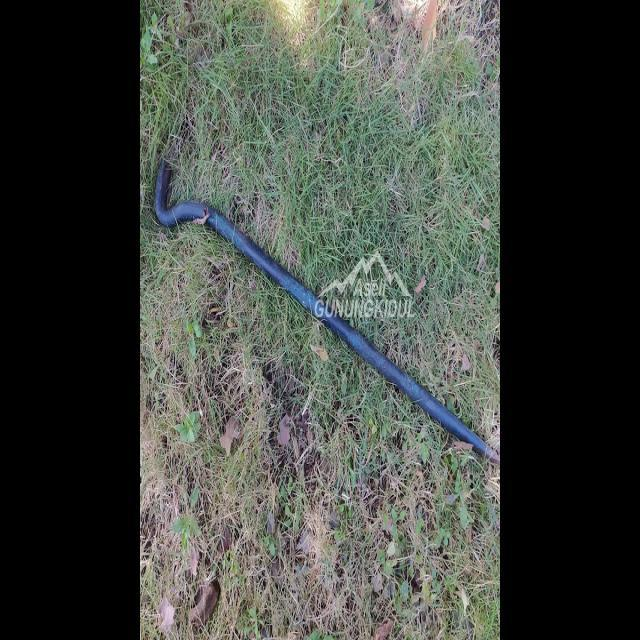Linggis: (145, 149, 498, 492)
